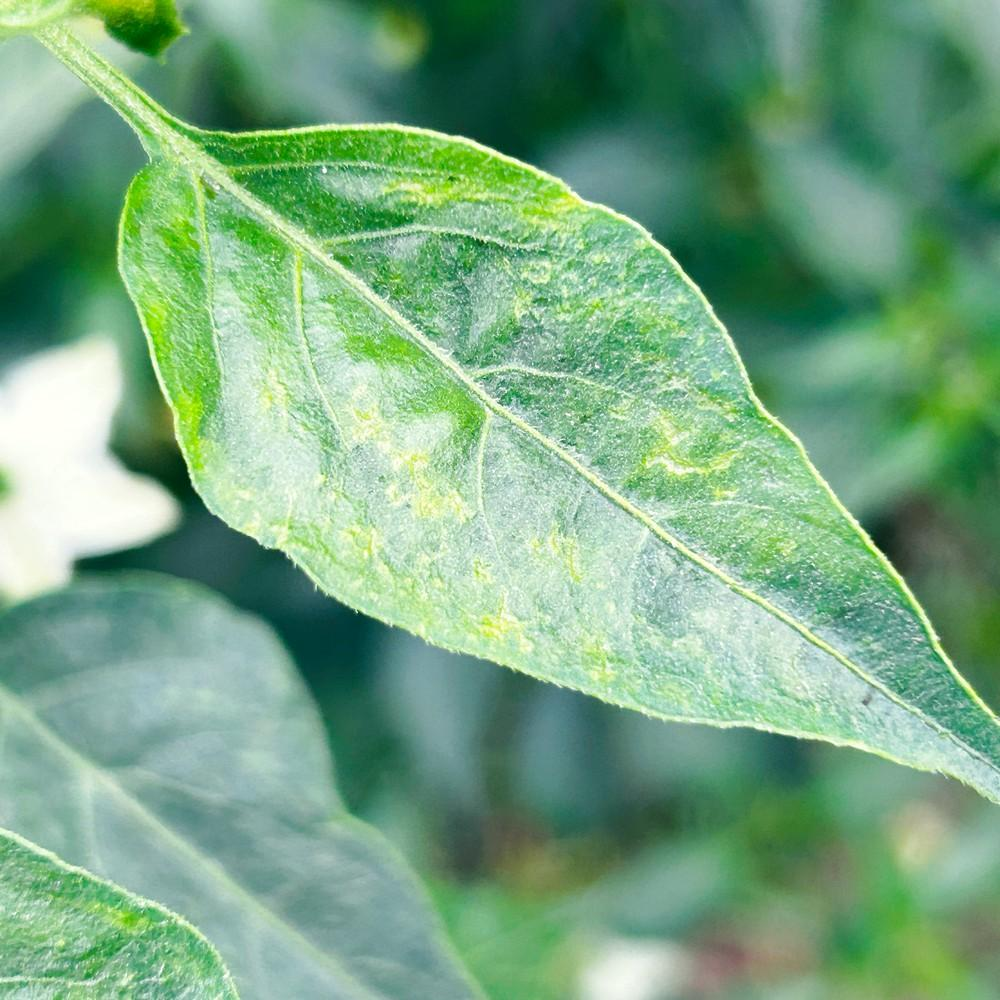Daun Cabai Sehat: (18, 4, 999, 807), (0, 566, 489, 998)
